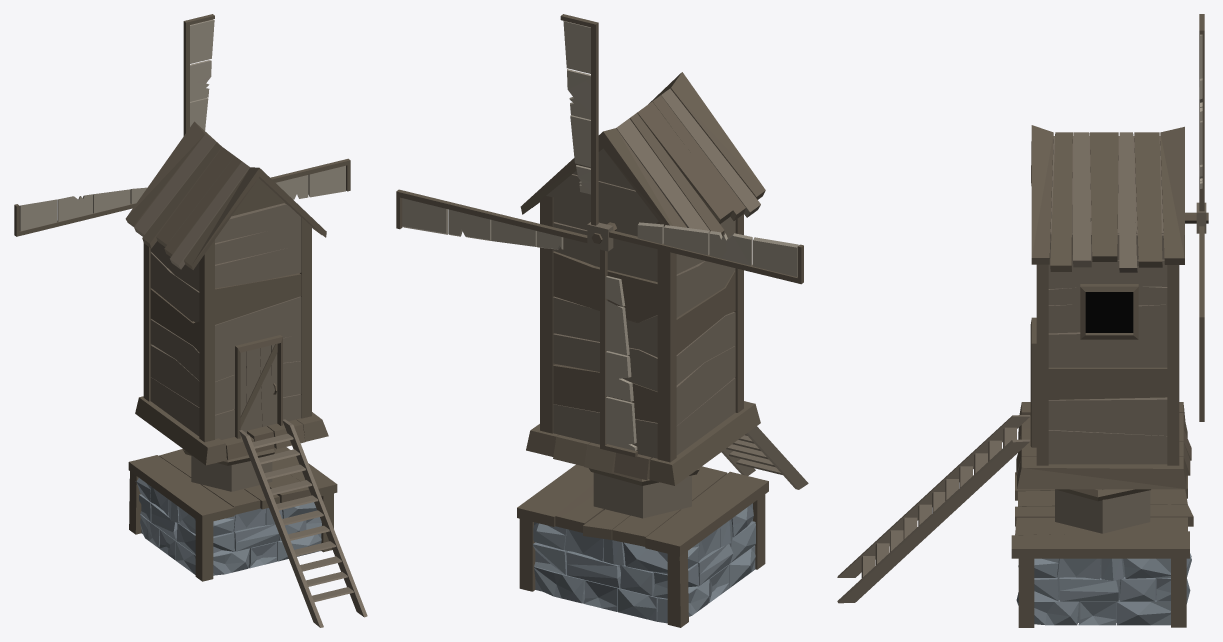
File: Mill.glb
3 views of the same model, side by side, from view 1: azimuth 30°, elevation 25°; view 2: azimuth 150°, elevation 25°; view 3: azimuth 270°, elevation 25° (orthographic). The views are drawn at different scales.
Visible parts, largest first — view 1: MELL; view 2: MELL; view 3: MELL.
Part boxes in pixels (x1,y1,x2,y2): MELL: [14, 14, 367, 627]; MELL: [396, 14, 808, 627]; MELL: [837, 14, 1208, 627].
Bounding box in the file's own units: 8.25 × 11.52 × 6.76.
Materials: 1 (1 with a texture image).
